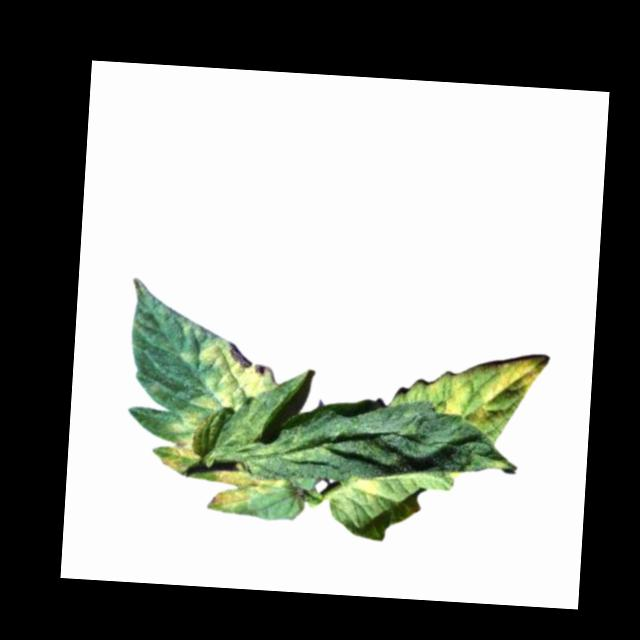Leaf_Mold: (424, 347, 550, 429), (212, 400, 334, 474), (189, 337, 280, 417), (204, 465, 287, 516), (156, 410, 207, 477), (348, 474, 379, 506)
